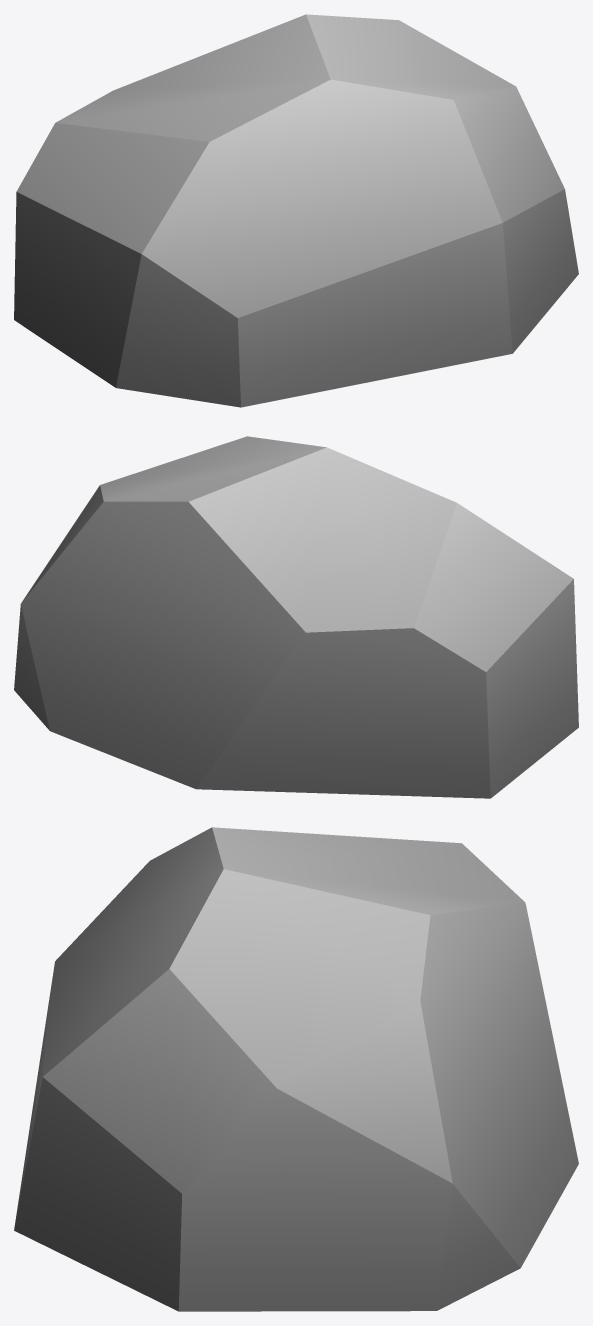
File: stone small.fbx
3 views of the same model, one above another, from view 1: azimuth 30°, elevation 25°; view 2: azimuth 150°, elevation 25°; view 3: azimuth 270°, elevation 25° (orthographic). The views are drawn at different scales.
Parts seen in each view (by area): view 1: stone small; view 2: stone small; view 3: stone small.
Boxes of the visible parts, x1,y1,x2,y2 form: stone small: (14, 14, 578, 407); stone small: (14, 436, 578, 798); stone small: (14, 827, 578, 1311).
Bounding box in the file's own units: 149 × 71.68 × 122.
